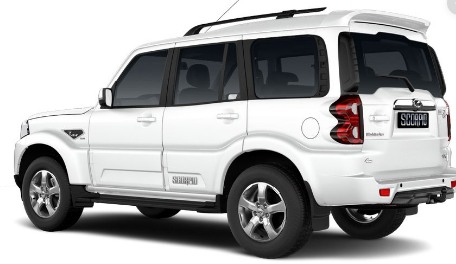car: (9, 12, 455, 259)
